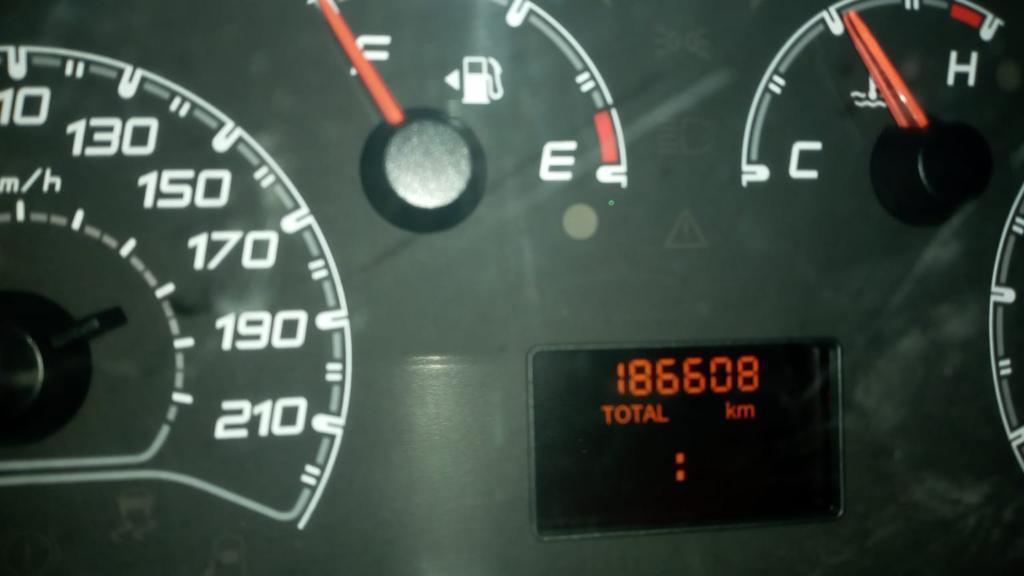0: (707, 354, 733, 393)
1: (614, 358, 628, 395)
6: (654, 357, 680, 395), (681, 355, 706, 394)
8: (627, 356, 652, 396), (735, 353, 760, 391)
X: (673, 449, 687, 482), (736, 402, 756, 420), (614, 402, 630, 424), (656, 401, 670, 424), (599, 403, 614, 424), (629, 402, 643, 424), (642, 402, 656, 424), (723, 397, 736, 420)
odometer: (521, 331, 848, 542)
